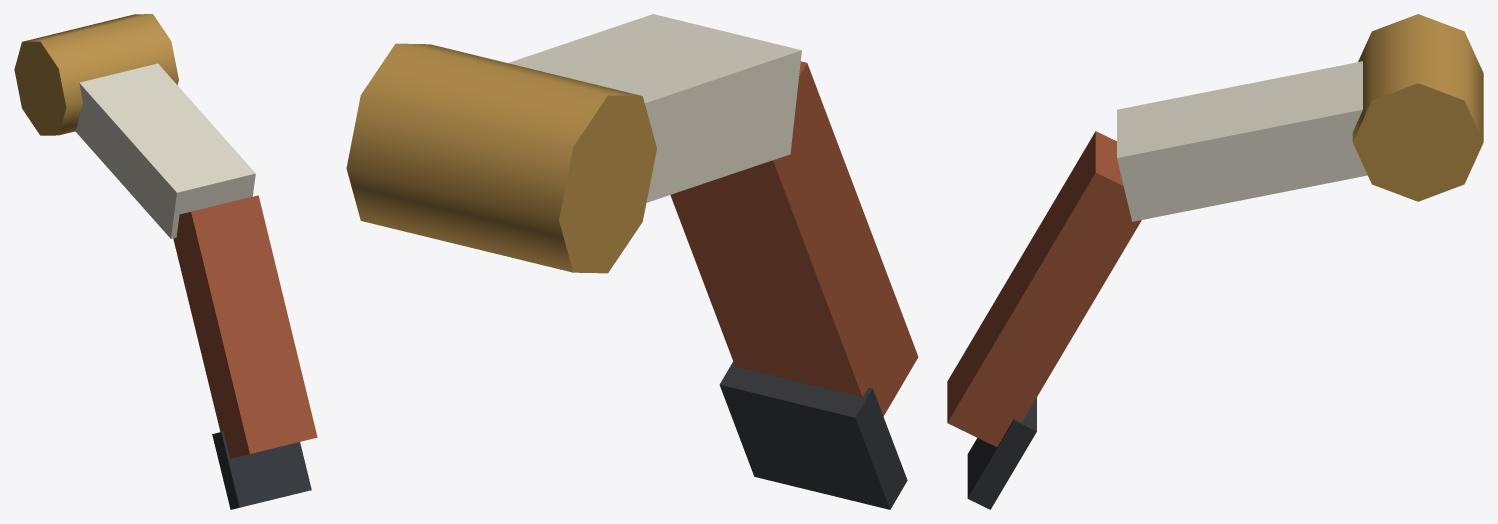
Rendered from rm2_claw_jaw_a.obj.
3 renders of one model, left to right at view 1: azimuth 30°, elevation 25°; view 2: azimuth 150°, elevation 25°; view 3: azimuth 270°, elevation 25°, orthographic. The views are drawn at different scales.
Visible parts, largest first — view 1: rm2_claw_jaw_a; view 2: rm2_claw_jaw_a; view 3: rm2_claw_jaw_a.
Boxes of the visible parts, box(x1,y1,x2,y2) form: rm2_claw_jaw_a: box(14, 14, 317, 509); rm2_claw_jaw_a: box(346, 14, 918, 509); rm2_claw_jaw_a: box(947, 14, 1483, 509).
Size of the model in its own units: 0.05 by 0.1481 by 0.1638.
